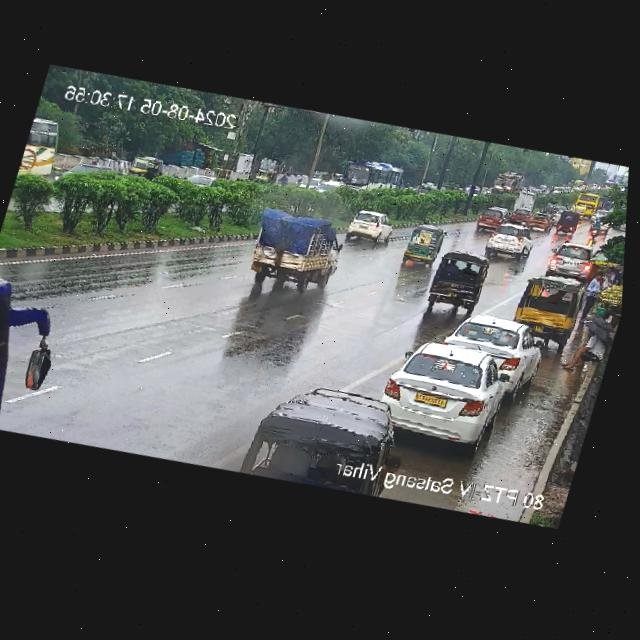bus: (16, 107, 66, 184)
car: (360, 323, 512, 456), (432, 300, 553, 405), (505, 268, 588, 358), (422, 242, 497, 325), (336, 150, 409, 201), (483, 219, 536, 269), (345, 202, 399, 251), (544, 238, 599, 286), (400, 220, 448, 274), (125, 149, 166, 182), (474, 203, 507, 233), (527, 207, 556, 235), (556, 209, 583, 237), (253, 166, 278, 186), (510, 206, 533, 225), (549, 203, 569, 220), (570, 204, 588, 219)
truck: (241, 201, 349, 301), (492, 163, 529, 201)
